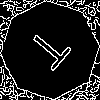T: (25, 25, 80, 78)
